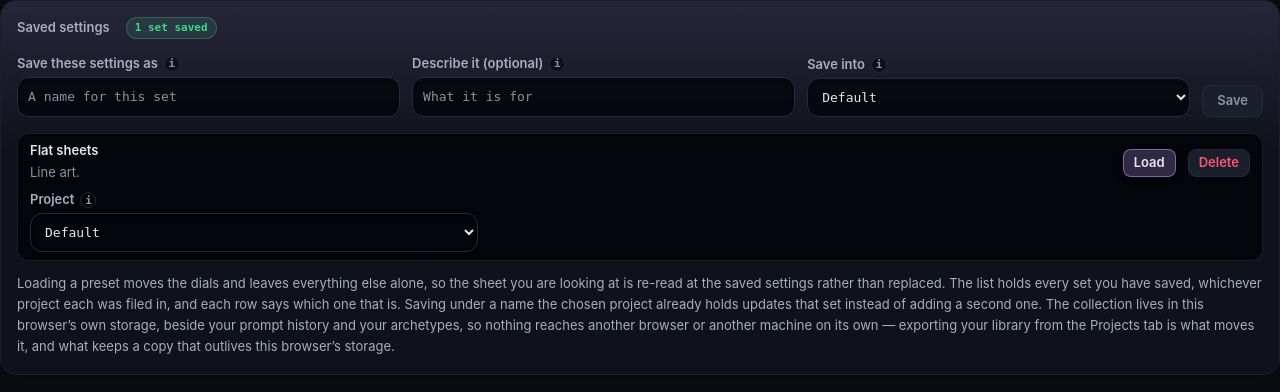
Test: QuantisePresetControls › says Update before the press when the name is one already saved in that project
Type "flat SHEETS" into the field labelled "Save these settings as" at coordinates (209, 97), box [17,77,400,117]
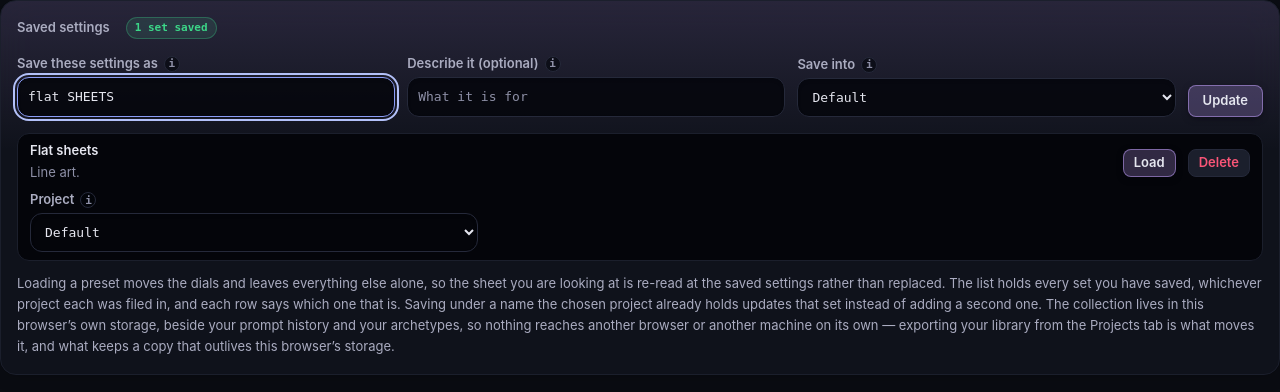
Now the button "Update" is shown, box [1188,85,1263,117]
